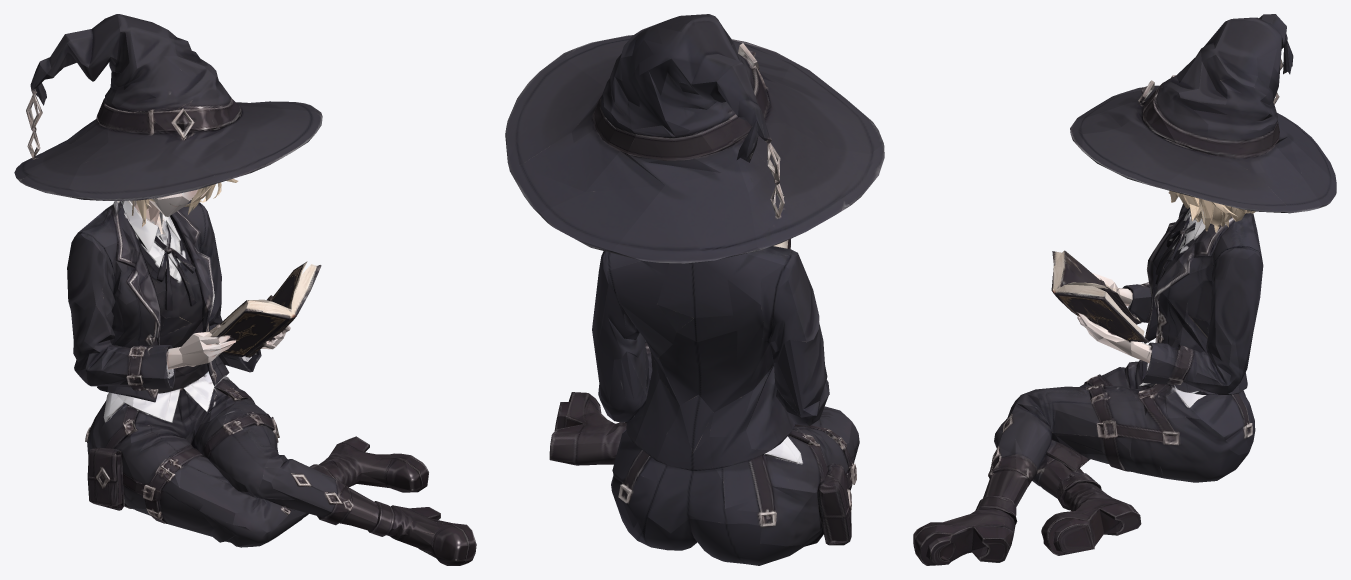
File: OldFriend.fbx
3 views of the same model, side by side, from view 1: azimuth 30°, elevation 25°; view 2: azimuth 150°, elevation 25°; view 3: azimuth 270°, elevation 25° (orthographic). The views are drawn at different scales.
Parts seen in each view (by area): view 1: output_unwrapped; view 2: output_unwrapped; view 3: output_unwrapped.
Boxes of the visible parts, left/top/right/bottom form: output_unwrapped: left=14, top=14, right=476, bottom=565; output_unwrapped: left=505, top=14, right=884, bottom=565; output_unwrapped: left=913, top=14, right=1336, bottom=565.
Size of the model in its own units: 136 by 190 by 158.
1 material, 1 textured.
